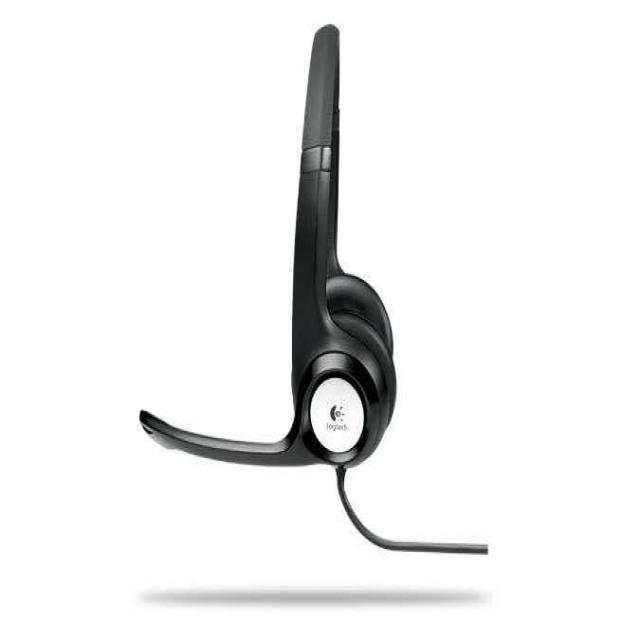microphone: (141, 414, 203, 455)
